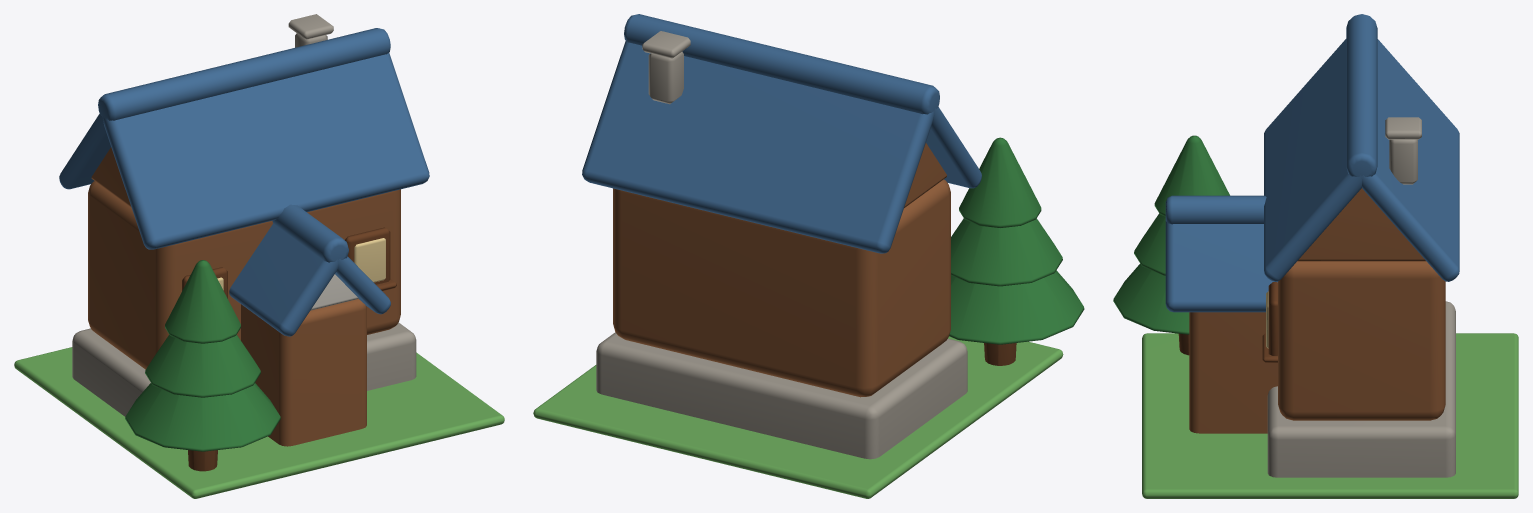
3 renders of one model, left to right at view 1: azimuth 30°, elevation 25°; view 2: azimuth 150°, elevation 25°; view 3: azimuth 270°, elevation 25°, orthographic. The views are drawn at different scales.
Parts seen in each view (by area): view 1: Cube; view 2: Cube; view 3: Cube.
Boxes of the visible parts, left/top/right/bottom form: Cube: left=14, top=14, right=504, bottom=498; Cube: left=533, top=14, right=1084, bottom=498; Cube: left=1113, top=14, right=1518, bottom=498.
Bounding box in the file's own units: 0.7954 × 0.72 × 0.7754.
